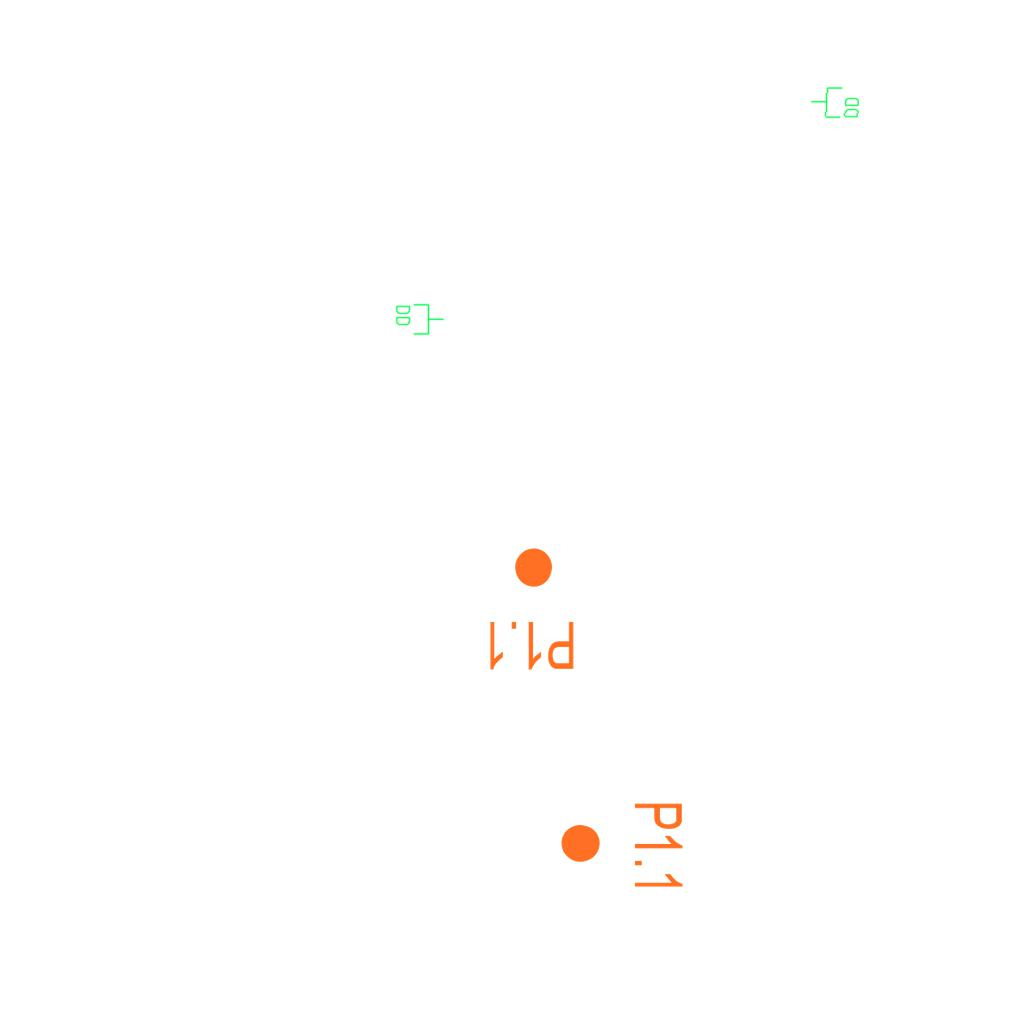Datenanschluss_zweifach: (809, 84, 862, 122), (394, 302, 445, 336)
Downlight_LED_Einbauleuchten_Flur: (558, 800, 686, 893), (484, 545, 577, 673)
